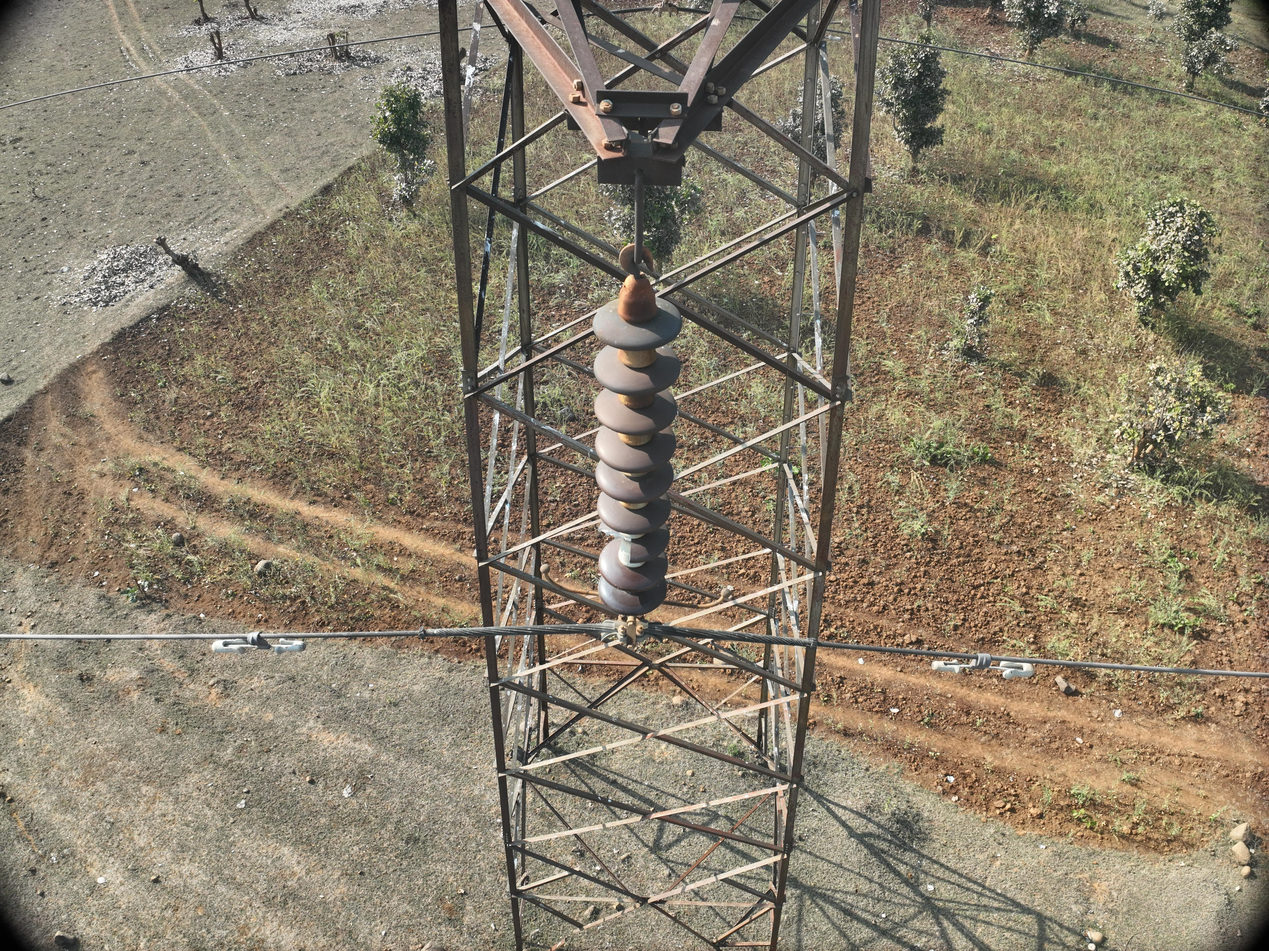broken_insulator: (595, 522, 675, 568)
